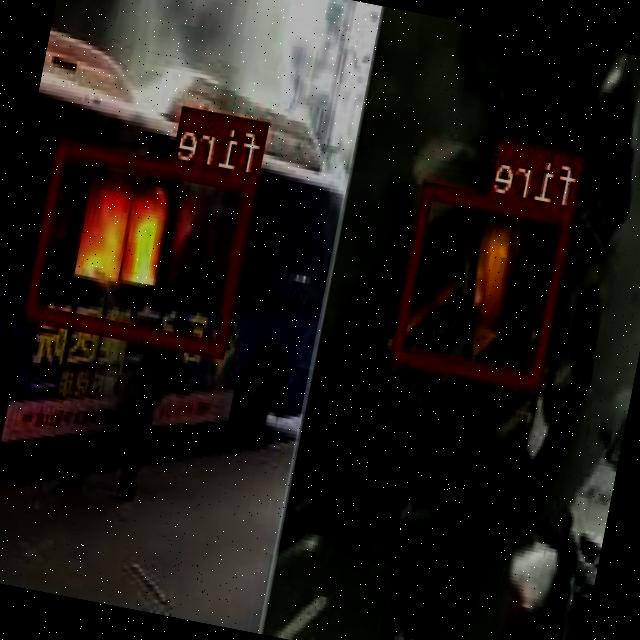fire: (28, 136, 262, 354), (393, 180, 577, 390)
